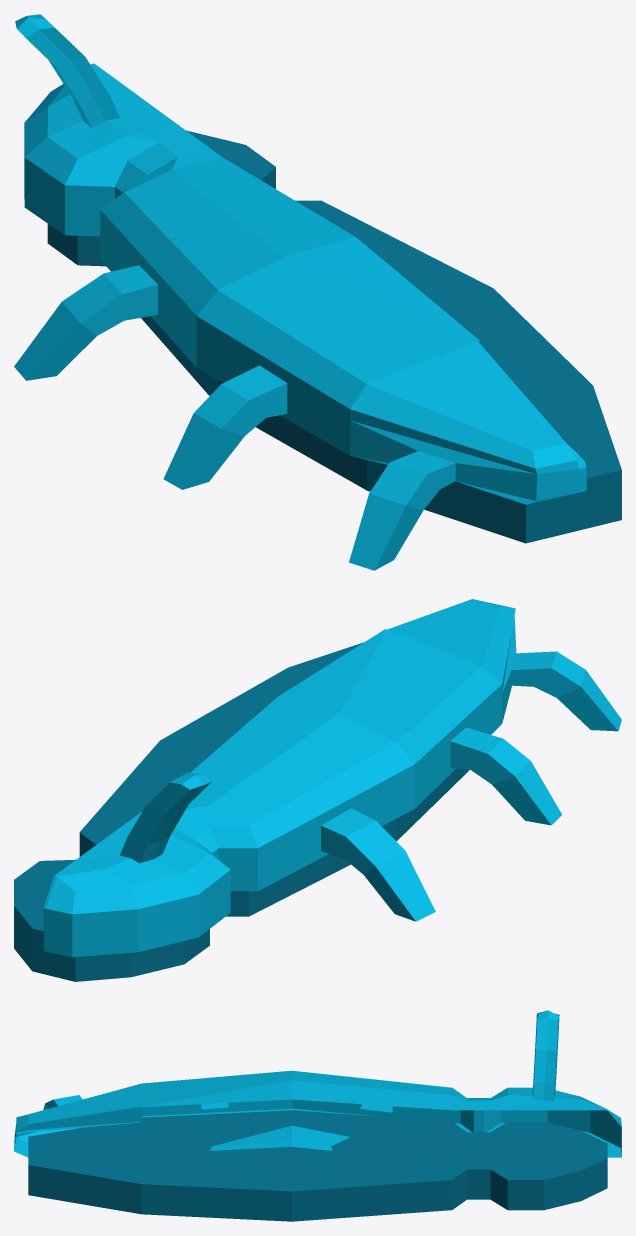
The model's file is Roach_Enemy(microCENTER).glb.
The picture shows the model from 3 angles, top to bottom: view 1: azimuth 30°, elevation 25°; view 2: azimuth 150°, elevation 25°; view 3: azimuth 270°, elevation 25°; orthographic projection. The views are drawn at different scales.
Visible parts, largest first — view 1: Cube, Cube.001; view 2: Cube, Cube.001; view 3: Cube.001, Cube.
Part boxes in pixels (bbox=[...]): Cube: bbox=[14, 14, 586, 570]; Cube.001: bbox=[47, 130, 621, 543]; Cube: bbox=[43, 599, 621, 957]; Cube.001: bbox=[14, 642, 469, 981]; Cube.001: bbox=[28, 1110, 607, 1221]; Cube: bbox=[14, 1010, 621, 1157].
Size of the model in its own units: 3.43 by 1.88 by 7.58.
